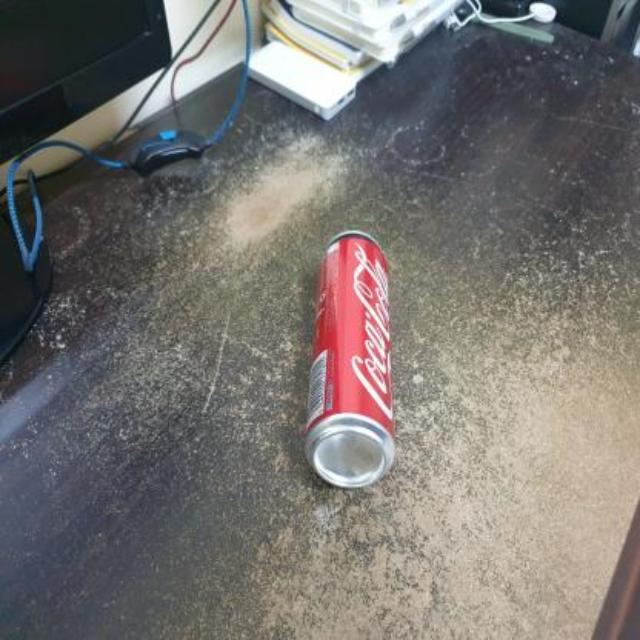metal: (305, 229, 391, 485)
